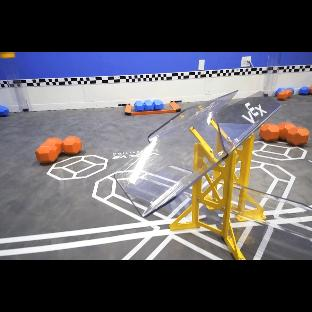Loader: (263, 52, 281, 96)
Low_goal: (230, 184, 312, 260), (199, 203, 223, 230), (174, 187, 192, 214), (215, 180, 223, 199), (202, 177, 209, 189)
Parking-R: (125, 101, 181, 115)
V5_BLUE: (134, 100, 164, 110), (0, 106, 9, 117), (299, 87, 309, 95), (285, 88, 294, 95), (276, 88, 284, 95)
V5_RED: (114, 91, 281, 217), (35, 137, 82, 166), (260, 123, 310, 147), (278, 92, 287, 100), (285, 90, 291, 97), (310, 87, 312, 95)
